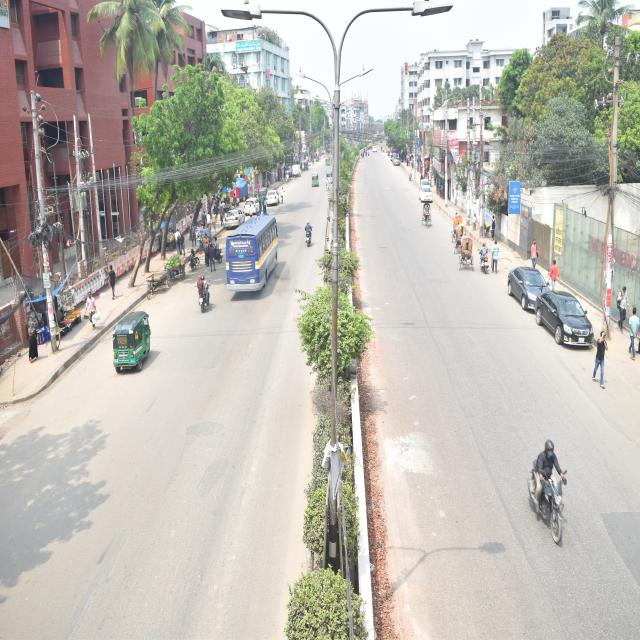bus: (227, 214, 280, 302)
car: (536, 283, 599, 352), (504, 259, 550, 308), (416, 175, 436, 209), (263, 185, 286, 209), (223, 206, 245, 228), (240, 197, 265, 216)
motorbike: (528, 435, 570, 548), (193, 275, 216, 314), (476, 237, 491, 280), (302, 217, 315, 260)
